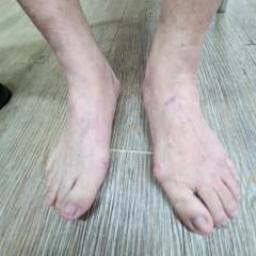Dorsal View -Both Feet-: (26, 38, 252, 246)
